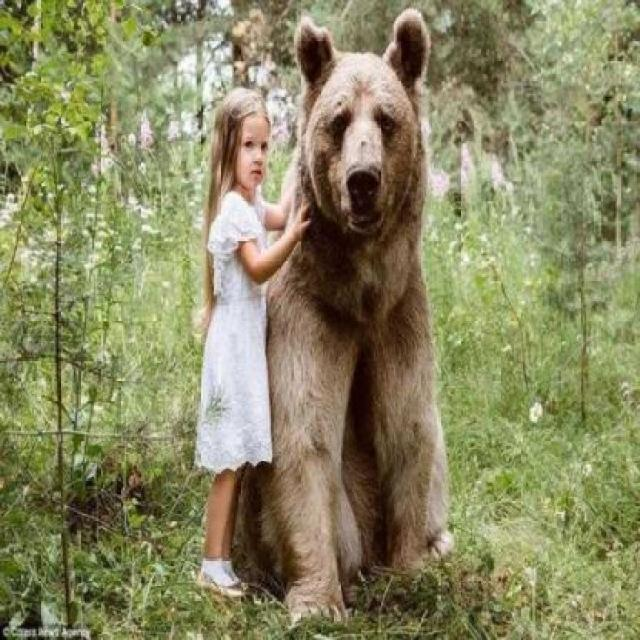Bear: (270, 41, 512, 559)
